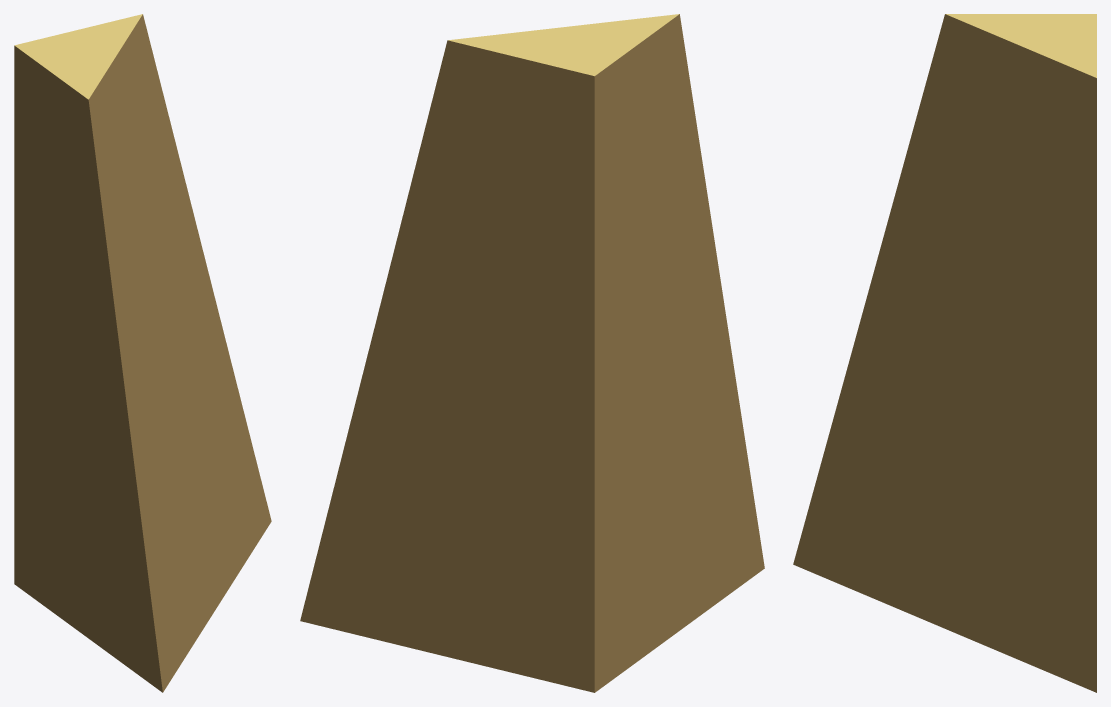
Rendered from Terrain_Tile_Sand_Cliff_Face_Angled_Corner_01.fbx.
3 renders of one model, left to right at view 1: azimuth 30°, elevation 25°; view 2: azimuth 150°, elevation 25°; view 3: azimuth 270°, elevation 25°, orthographic. The views are drawn at different scales.
Visible parts, largest first — view 1: Model; view 2: Model; view 3: Model.
Boxes of the visible parts, x1=… form: Model: x1=14, y1=14, x2=271, y2=692; Model: x1=300, y1=14, x2=764, y2=692; Model: x1=793, y1=14, x2=1096, y2=692.
Bounding box in the file's own units: 1000 × 2000 × 1000.
